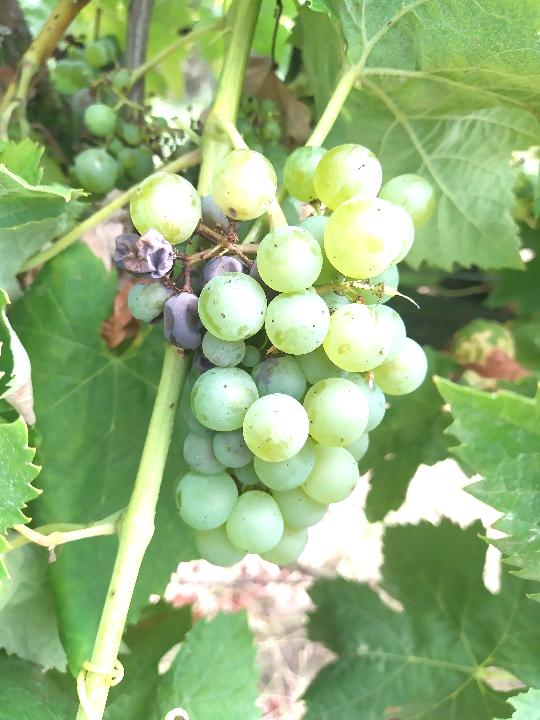grape: (109, 139, 430, 570)
